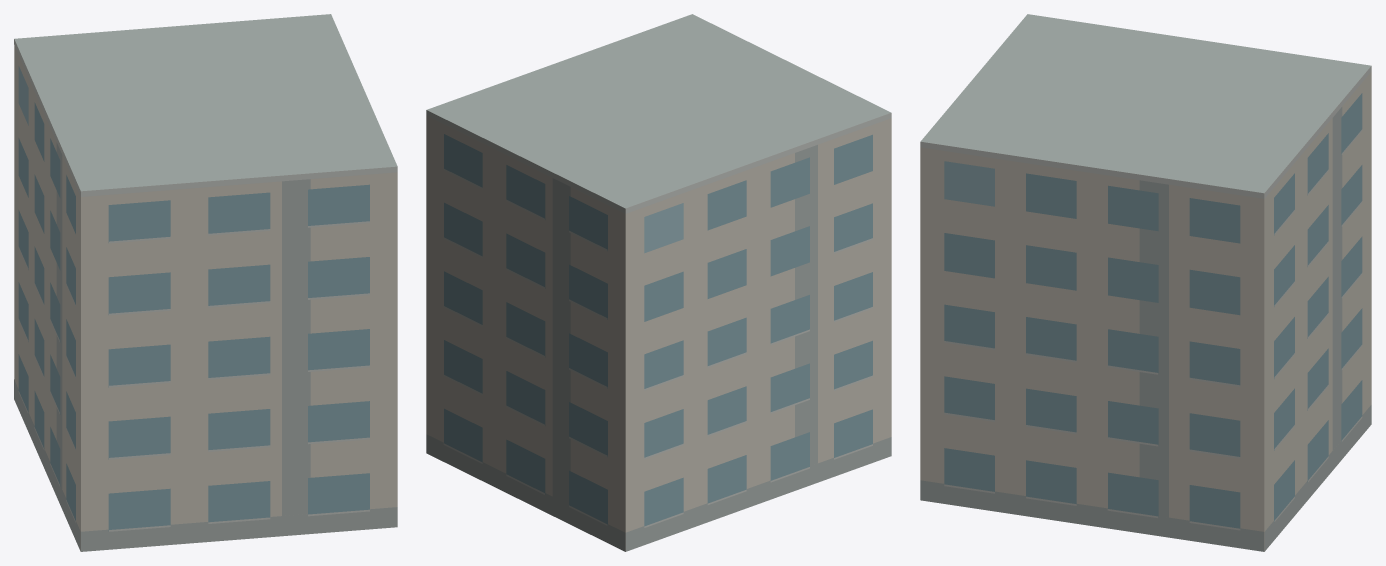
File: residential-9956208d-6780-4b1f-aba9-db140b9471d3.glb
3 views of the same model, side by side, from view 1: azimuth 30°, elevation 25°; view 2: azimuth 150°, elevation 25°; view 3: azimuth 270°, elevation 25° (orthographic). The views are drawn at different scales.
Parts seen in each view (by area): view 1: residential-9956208d-6780-4b1f-aba9-db140b9471d3.tmp; view 2: residential-9956208d-6780-4b1f-aba9-db140b9471d3.tmp; view 3: residential-9956208d-6780-4b1f-aba9-db140b9471d3.tmp.
Part boxes in pixels (bbox=[...]): residential-9956208d-6780-4b1f-aba9-db140b9471d3.tmp: bbox=[14, 14, 397, 551]; residential-9956208d-6780-4b1f-aba9-db140b9471d3.tmp: bbox=[426, 14, 891, 551]; residential-9956208d-6780-4b1f-aba9-db140b9471d3.tmp: bbox=[920, 14, 1371, 551].
Size of the model in its own units: 16.36 by 15.25 by 17.4.
